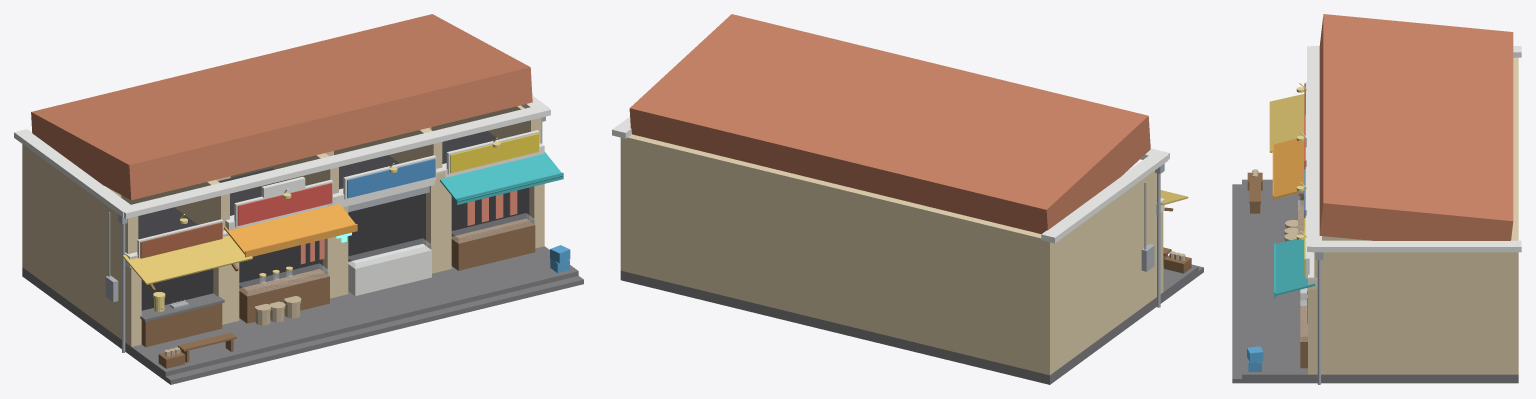
The model's file is building_shop_cluster_01.glb.
The picture shows the model from 3 angles, left to right: view 1: azimuth 30°, elevation 25°; view 2: azimuth 150°, elevation 25°; view 3: azimuth 270°, elevation 25°; orthographic projection. The views are drawn at different scales.
Parts seen in each view (by area): view 1: Building_TerracottaRoof.001, Building_StuccoWeathered, Building_PlinthGranite.001, Building_WhiteTrim, Building_DarkInterior.001, Building_TeakTimber.001, Building_AwningKirana, Building_ArchitecturalGlass.001, Building_AwningMobile, Building_AwningChai, Building_SignKirana, Building_RollerShutter.001 (+7 smaller); view 2: Building_StuccoWeathered, Building_TerracottaRoof.001, Building_PlinthGranite.001, Building_WhiteTrim, Building_RollerShutter.001; view 3: Building_TerracottaRoof.001, Building_StuccoWeathered, Building_PlinthGranite.001, Building_WhiteTrim, Building_AwningKirana, Building_AwningMobile, Building_AwningChai, Building_TeakTimber.001, Building_RollerShutter.001, Building_ArchitecturalGlass.001, Building_PlasticCrates, Building_ProductSacks (+1 smaller).
Part boxes in pixels (left/top/right/bottom): Building_TerracottaRoof.001: left=31, top=14, right=532, bottom=200; Building_StuccoWeathered: left=22, top=105, right=544, bottom=346; Building_PlinthGranite.001: left=22, top=246, right=583, bottom=384; Building_WhiteTrim: left=14, top=95, right=550, bottom=295; Building_DarkInterior.001: left=138, top=131, right=529, bottom=310; Building_TeakTimber.001: left=141, top=218, right=535, bottom=368; Building_AwningKirana: left=224, top=203, right=357, bottom=257; Building_ArchitecturalGlass.001: left=173, top=213, right=535, bottom=305; Building_AwningMobile: left=440, top=152, right=563, bottom=204; Building_AwningChai: left=122, top=235, right=252, bottom=284; Building_SignKirana: left=237, top=183, right=332, bottom=225; Building_RollerShutter.001: left=105, top=116, right=545, bottom=352; Building_StuccoWeathered: left=620, top=134, right=1163, bottom=375; Building_TerracottaRoof.001: left=629, top=14, right=1150, bottom=234; Building_PlinthGranite.001: left=620, top=264, right=1203, bottom=384; Building_WhiteTrim: left=612, top=117, right=1169, bottom=243; Building_RollerShutter.001: left=1141, top=163, right=1164, bottom=307; Building_TerracottaRoof.001: left=1319, top=14, right=1513, bottom=240; Building_StuccoWeathered: left=1308, top=57, right=1518, bottom=374; Building_PlinthGranite.001: left=1232, top=179, right=1518, bottom=383; Building_WhiteTrim: left=1300, top=46, right=1521, bottom=305; Building_AwningKirana: left=1272, top=138, right=1304, bottom=201; Building_AwningMobile: left=1274, top=238, right=1315, bottom=298; Building_AwningChai: left=1269, top=94, right=1304, bottom=152; Building_TeakTimber.001: left=1247, top=172, right=1307, bottom=368; Building_RollerShutter.001: left=1315, top=252, right=1323, bottom=384; Building_ArchitecturalGlass.001: left=1298, top=200, right=1307, bottom=341; Building_PlasticCrates: left=1247, top=346, right=1263, bottom=371; Building_ProductSacks: left=1252, top=169, right=1297, bottom=241.
Size of what is drawn, in the model's own units: 14.45 by 5.95 by 8.8.
